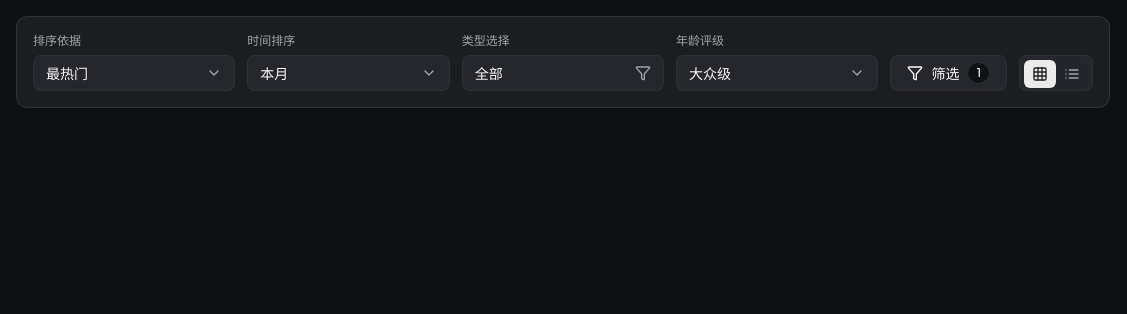
FilterBar advanced-filter status › uses calendar-relative labels for trend windows
Click the button "本月": coordinates (348, 73) [247, 55, 450, 91]
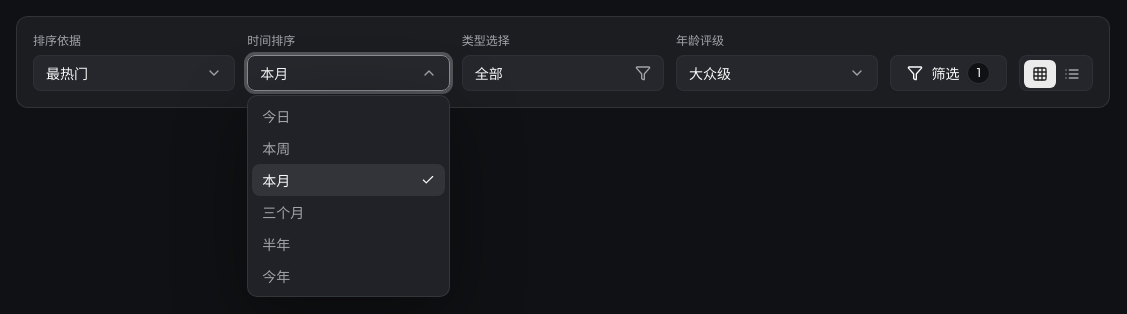
Check: the option "今日" is shown, box [252, 100, 445, 132]
Check: the option "本周" is shown, box [252, 132, 445, 164]
Check: the option "本月" is shown, box [252, 164, 445, 196]
